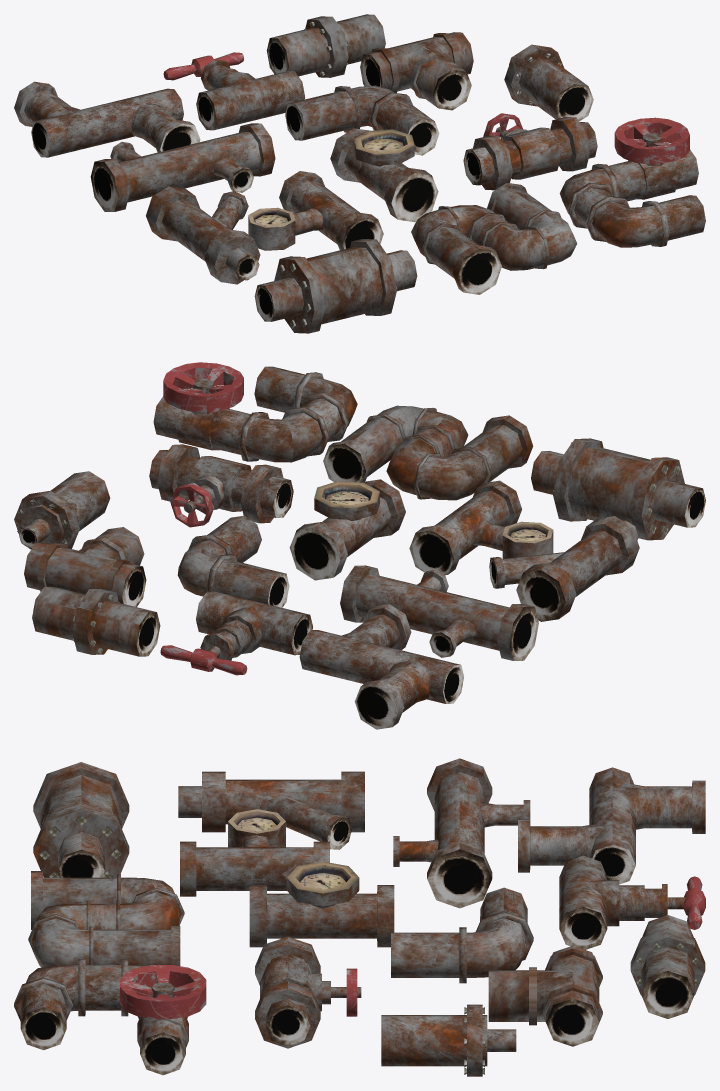
File: low_poly_metal_pipes_asset.glb
The picture shows the model from 3 angles, top to bottom: view 1: azimuth 30°, elevation 25°; view 2: azimuth 150°, elevation 25°; view 3: azimuth 270°, elevation 25°; orthographic projection. The views are drawn at different scales.
Visible parts, largest first — view 1: Cube.002, Cube.004, Cube.010, Cube.011, Cube.007, Cube.001, Cube.008, Cube.003, Cube.014, Cube, Cube.016, Cube.015 (+5 smaller); view 2: Cube.002, Cube.010, Cube.004, Cube.007, Cube.011, Cube.001, Cube, Cube.003, Cube.008, Cube.015, Cube.016, Cube.014 (+5 smaller); view 3: Cube.002, Cube.007, Cube.011, Cube.004, Cube.001, Cube.003, Cube.010, Cube.014, Cube.016, Cube, Cube.013, Cube.008 (+5 smaller).
Part boxes in pixels (box(x1,y1,x2,y2)): Cube.002: box(411, 182, 577, 294); Cube.004: box(254, 239, 417, 333); Cube.010: box(559, 149, 705, 247); Cube.011: box(90, 123, 275, 211); Cube.007: box(14, 81, 200, 157); Cube.001: box(146, 186, 260, 284); Cube.008: box(463, 117, 597, 190); Cube.003: box(330, 128, 438, 222); Cube.014: box(285, 85, 439, 155); Cube: box(248, 171, 383, 250); Cube.016: box(360, 32, 473, 110); Cube.015: box(266, 14, 385, 77); Cube.002: box(323, 405, 533, 500); Cube.010: box(153, 366, 357, 462); Cube.004: box(531, 438, 705, 540); Cube.007: box(299, 604, 463, 729); Cube.011: box(340, 565, 538, 660); Cube.001: box(489, 516, 639, 621); Cube: box(409, 480, 553, 575); Cube.003: box(289, 479, 405, 580); Cube.008: box(149, 444, 293, 523); Cube.015: box(32, 586, 160, 656); Cube.016: box(24, 527, 146, 606); Cube.014: box(177, 515, 289, 607); Cube.002: box(28, 871, 184, 967); Cube.007: box(518, 767, 705, 884); Cube.011: box(393, 758, 530, 908); Cube.004: box(33, 762, 129, 877); Cube.001: box(178, 771, 364, 849); Cube.003: box(249, 861, 394, 947); Cube.010: box(14, 959, 188, 1075); Cube.014: box(391, 887, 533, 983); Cube.016: box(488, 945, 602, 1046); Cube: box(180, 809, 329, 896); Cube.013: box(381, 1004, 516, 1076); Cube.008: box(255, 936, 330, 1048).
Size of the model in its own units: 4.28 by 0.6898 by 4.66.
1 material, 1 textured.
